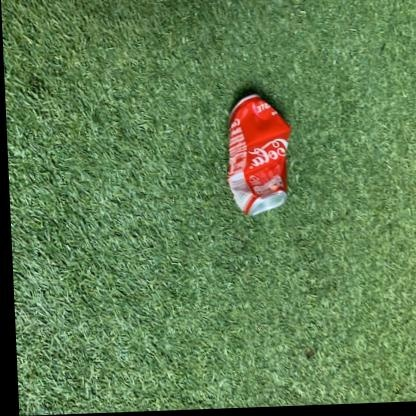trash: (228, 95, 290, 215)
